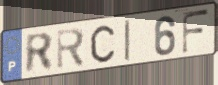6: (153, 14, 177, 57)
C: (88, 24, 116, 64)
F: (180, 8, 211, 56)
I: (123, 18, 132, 64)
R: (55, 26, 87, 72), (24, 31, 55, 76)
